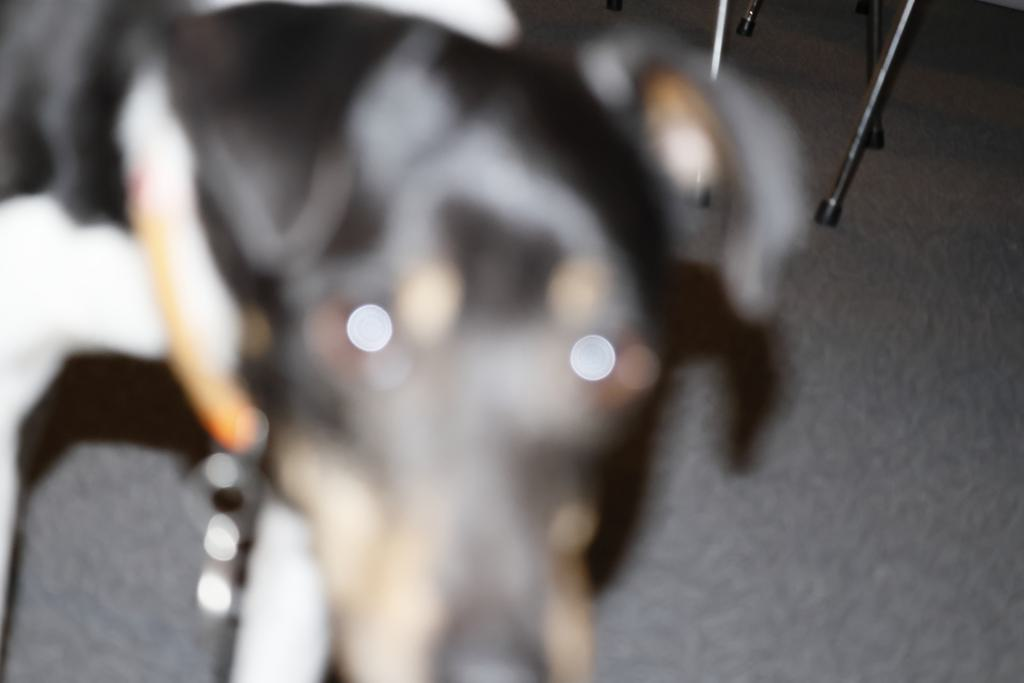Dog: (0, 0, 820, 683)
